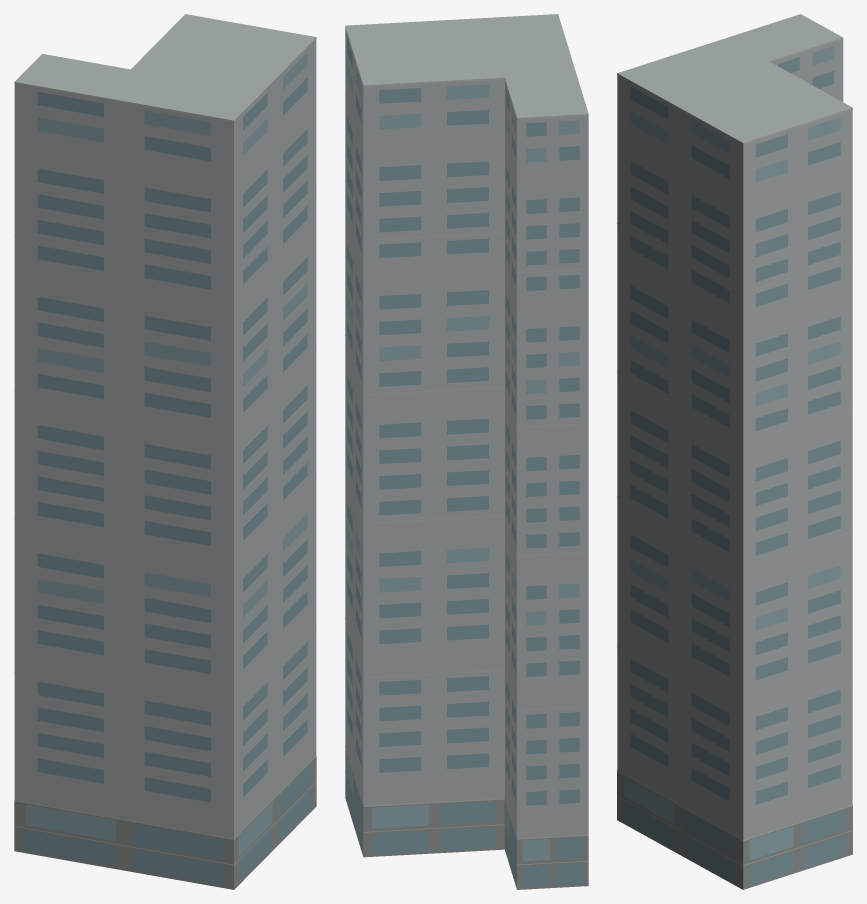
File: residential-879ad446-6dd4-4fab-92e1-ec0e7fd11116.glb
3 views of the same model, side by side, from view 1: azimuth 30°, elevation 25°; view 2: azimuth 150°, elevation 25°; view 3: azimuth 270°, elevation 25° (orthographic). The views are drawn at different scales.
Visible parts, largest first — view 1: residential-879ad446-6dd4-4fab-92e1-ec0e7fd11116.tmp; view 2: residential-879ad446-6dd4-4fab-92e1-ec0e7fd11116.tmp; view 3: residential-879ad446-6dd4-4fab-92e1-ec0e7fd11116.tmp.
Boxes of the visible parts, x1=… form: residential-879ad446-6dd4-4fab-92e1-ec0e7fd11116.tmp: x1=14, y1=14, x2=316, y2=889; residential-879ad446-6dd4-4fab-92e1-ec0e7fd11116.tmp: x1=345, y1=14, x2=588, y2=889; residential-879ad446-6dd4-4fab-92e1-ec0e7fd11116.tmp: x1=617, y1=14, x2=852, y2=889.
Bounding box in the file's own units: 36.7 × 99 × 28.33.
